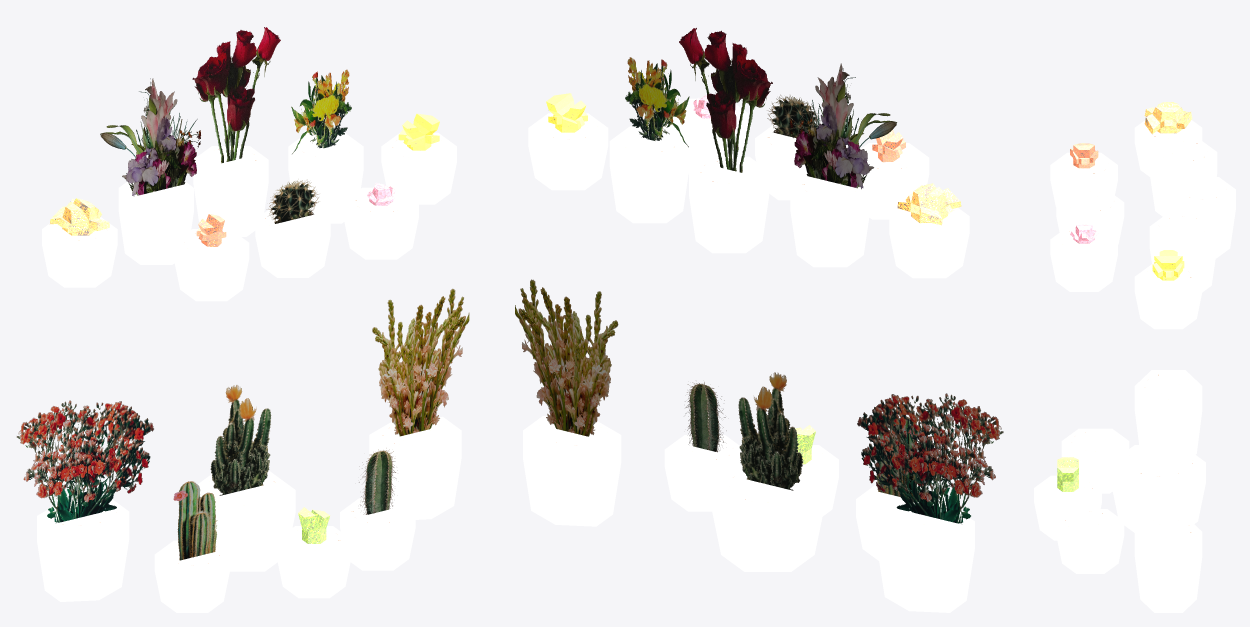
The model's file is flower_clutter.glb.
3 views of the same model, side by side, from view 1: azimuth 30°, elevation 25°; view 2: azimuth 150°, elevation 25°; view 3: azimuth 270°, elevation 25° (orthographic). The views are drawn at different scales.
Parts seen in each view (by area): view 1: flowers, cacti, colourful_cacti; view 2: flowers, cacti, colourful_cacti; view 3: flowers, colourful_cacti, cacti.
Boxes of the visible parts, <box> form: flowers: <box>16,27,469,601</box>; cacti: <box>154,179,415,612</box>; colourful_cacti: <box>42,113,456,598</box>; flowers: <box>515,28,1003,612</box>; cacti: <box>664,94,934,571</box>; colourful_cacti: <box>528,93,969,516</box>; flowers: <box>1134,139,1235,612</box>; colourful_cacti: <box>1034,102,1202,540</box>; cacti: <box>1056,190,1205,573</box>.
Bounding box in the file's own units: 5.49 × 5.72 × 2.28.
10 materials, 9 textured.
